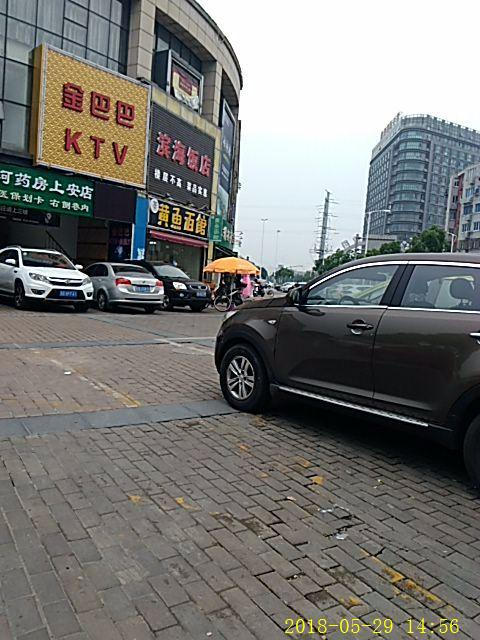window_shielding: (28, 43, 153, 187), (149, 88, 219, 211), (217, 97, 237, 217), (171, 57, 204, 111)
